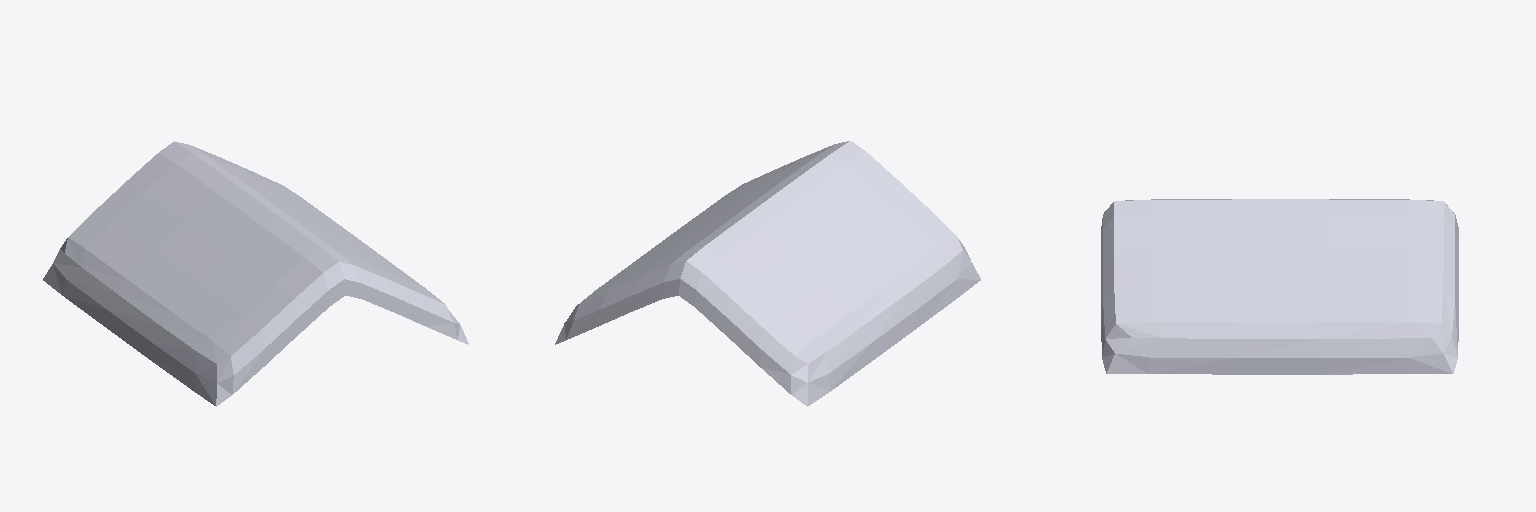
The model's file is snow_roof.obj.
3 views of the same model, side by side, from view 1: azimuth 30°, elevation 25°; view 2: azimuth 150°, elevation 25°; view 3: azimuth 270°, elevation 25° (orthographic).
Visible parts, largest first — view 1: snow_roof_Cube.001; view 2: snow_roof_Cube.001; view 3: snow_roof_Cube.001.
Boxes of the visible parts, box(x1,y1,x2,y2) form: snow_roof_Cube.001: box(43, 141, 468, 406); snow_roof_Cube.001: box(555, 141, 980, 406); snow_roof_Cube.001: box(1101, 199, 1458, 374).
Size of the model in its own units: 5.93 by 2.5 by 7.18.